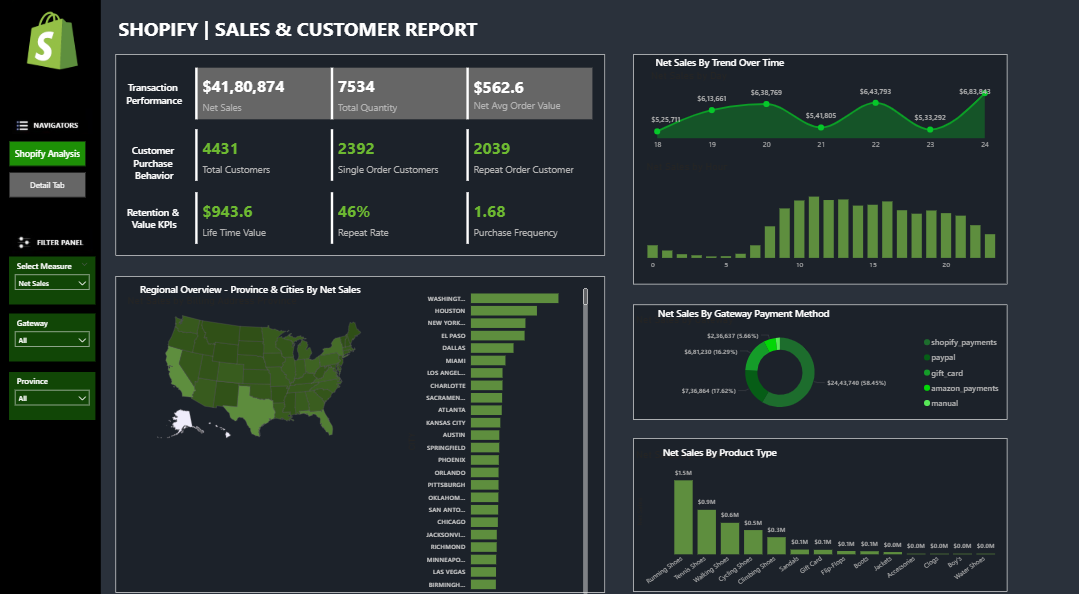

What the dashboard file says about the page in this screenshot:
{"tool":"powerbi","page":{"name":"Shopify Analysis","canvas":[1800,1000],"ordinal":0},"visuals":[{"type":"shape","box":[0,-8,168,1008],"z":0},{"type":"textbox","box":[192,24,648,72],"z":1000},{"type":"shape","box":[192,96,816,336],"z":2000},{"type":"cardVisual","fields":{"Data":["Shopify_sales.Net Sales","Shopify_sales.Total Quantity","Shopify_sales.Net Avg Order Value"]},"box":[320,112,672,96],"z":3000},{"type":"card","fields":{"Values":["Shopify_sales.Transaction per"]},"box":[192,112,128,96],"z":4000},{"type":"cardVisual","fields":{"Data":["Shopify_sales.Total Customers","Shopify_sales.Single Order Customers","Shopify_sales.Repeat Order Customer"]},"box":[320,216,672,96],"z":5000},{"type":"card","fields":{"Values":["Shopify_sales.Customer Purchase Behavior"]},"box":[192,224,128,96],"z":6000},{"type":"cardVisual","fields":{"Data":["Shopify_sales.Life Time Value","Shopify_sales.Repeat Rate","Shopify_sales.Purchase Frequency"]},"box":[320,320,672,96],"z":7000},{"type":"card","fields":{"Values":["Shopify_sales.Retention & Value KPIs"]},"box":[192,320,128,96],"z":8000},{"type":"shape","box":[192,464,816,528],"z":9000},{"type":"shapeMap","fields":{"Value":["Shopify_sales.Net Sales"],"Category":["Shopify_sales.Billing Address Province"]},"box":[208,496,448,256],"z":10000},{"type":"slicer","fields":{"Values":["Select Measure.Select Measure"]},"box":[16,432,144,80],"z":11000},{"type":"clusteredBarChart","fields":{"Y":["Shopify_sales.Net Sales"],"Category":["Shopify_sales.CITY"]},"box":[672,472,312,528],"z":12000},{"type":"card","fields":{"Values":["Select Measure.Map Title"]},"box":[192,464,448,48],"z":13000},{"type":"shape","box":[1056,96,624,384],"z":14000},{"type":"areaChart","fields":{"Y":["Shopify_sales.Net Sales"],"Category":["Shopify_sales.Invoice Date.Variation.Date Hierarchy.Day"]},"box":[1080,120,576,144],"z":15000},{"type":"columnChart","fields":{"Y":["Shopify_sales.Net Sales"],"Category":["Shopify_sales.Hour"]},"box":[1072,272,592,192],"z":16000},{"type":"card","fields":{"Values":["Shopify_sales.Trend Tittle"]},"box":[1056,96,288,32],"z":17000},{"type":"shape","box":[1056,512,624,192],"z":18000},{"type":"donutChart","fields":{"Y":["Shopify_sales.Net Sales"],"Category":["Shopify_sales.Gateway"]},"box":[1056,528,624,176],"z":19000},{"type":"card","fields":{"Values":["Shopify_sales.Gateway Title"]},"box":[1056,512,368,32],"z":20000},{"type":"shape","box":[1056,736,624,256],"z":21000},{"type":"clusteredColumnChart","fields":{"Y":["Shopify_sales.Net Sales"],"Category":["Shopify_sales.Product Type"]},"box":[1056,752,624,240],"z":22000},{"type":"card","fields":{"Values":["Shopify_sales.Product Title"]},"box":[1056,744,288,24],"z":23000},{"type":"image","box":[16,0,144,144],"z":24000},{"type":"slicer","fields":{"Values":["Shopify_sales.Gateway"]},"box":[16,528,144,80],"z":25000},{"type":"slicer","fields":{"Values":["Shopify_sales.Billing Address Province"]},"box":[16,624,144,80],"z":26000},{"type":"pageNavigator","box":[16,240,128,96],"z":27000},{"type":"image","box":[16,176,144,64],"z":28000},{"type":"image","box":[16,368,144,80],"z":29000}]}

Visuals, with their boxes on the page's 1800x1000 design canvas (x1, y1, x2, y2). These are canvas units, not pixel positions in the 1079x594 screenshot, which may show the page scaled, cropped or inside an application window:
shape: [0, -8, 168, 1000]
textbox: [192, 24, 840, 96]
shape: [192, 96, 1008, 432]
cardVisual - Shopify_sales.Net Sales x Shopify_sales.Total Quantity: [320, 112, 992, 208]
card - Shopify_sales.Transaction per: [192, 112, 320, 208]
cardVisual - Shopify_sales.Total Customers x Shopify_sales.Single Order Customers: [320, 216, 992, 312]
card - Shopify_sales.Customer Purchase Behavior: [192, 224, 320, 320]
cardVisual - Shopify_sales.Life Time Value x Shopify_sales.Repeat Rate: [320, 320, 992, 416]
card - Shopify_sales.Retention & Value KPIs: [192, 320, 320, 416]
shape: [192, 464, 1008, 992]
shapeMap - Shopify_sales.Net Sales x Shopify_sales.Billing Address Province: [208, 496, 656, 752]
slicer - Select Measure.Select Measure: [16, 432, 160, 512]
clusteredBarChart - Shopify_sales.Net Sales x Shopify_sales.CITY: [672, 472, 984, 1000]
card - Select Measure.Map Title: [192, 464, 640, 512]
shape: [1056, 96, 1680, 480]
areaChart - Shopify_sales.Net Sales x Shopify_sales.Invoice Date.Variation.Date Hierarchy.Day: [1080, 120, 1656, 264]
columnChart - Shopify_sales.Net Sales x Shopify_sales.Hour: [1072, 272, 1664, 464]
card - Shopify_sales.Trend Tittle: [1056, 96, 1344, 128]
shape: [1056, 512, 1680, 704]
donutChart - Shopify_sales.Net Sales x Shopify_sales.Gateway: [1056, 528, 1680, 704]
card - Shopify_sales.Gateway Title: [1056, 512, 1424, 544]
shape: [1056, 736, 1680, 992]
clusteredColumnChart - Shopify_sales.Net Sales x Shopify_sales.Product Type: [1056, 752, 1680, 992]
card - Shopify_sales.Product Title: [1056, 744, 1344, 768]
image: [16, 0, 160, 144]
slicer - Shopify_sales.Gateway: [16, 528, 160, 608]
slicer - Shopify_sales.Billing Address Province: [16, 624, 160, 704]
pageNavigator: [16, 240, 144, 336]
image: [16, 176, 160, 240]
image: [16, 368, 160, 448]
